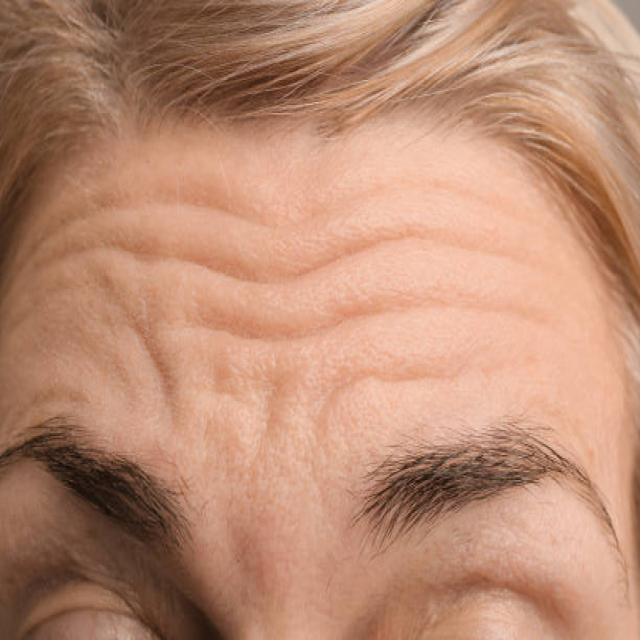dry: (62, 178, 554, 434)
